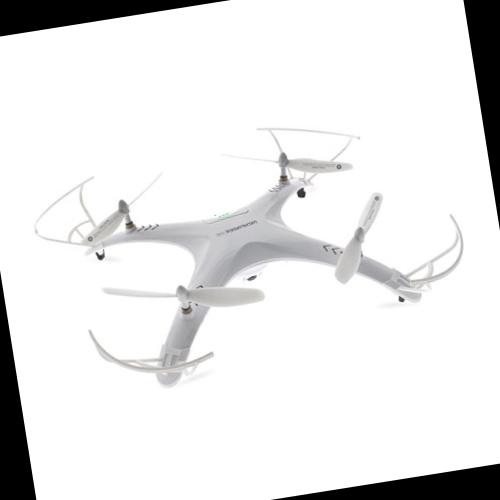drone: (9, 85, 494, 408)
